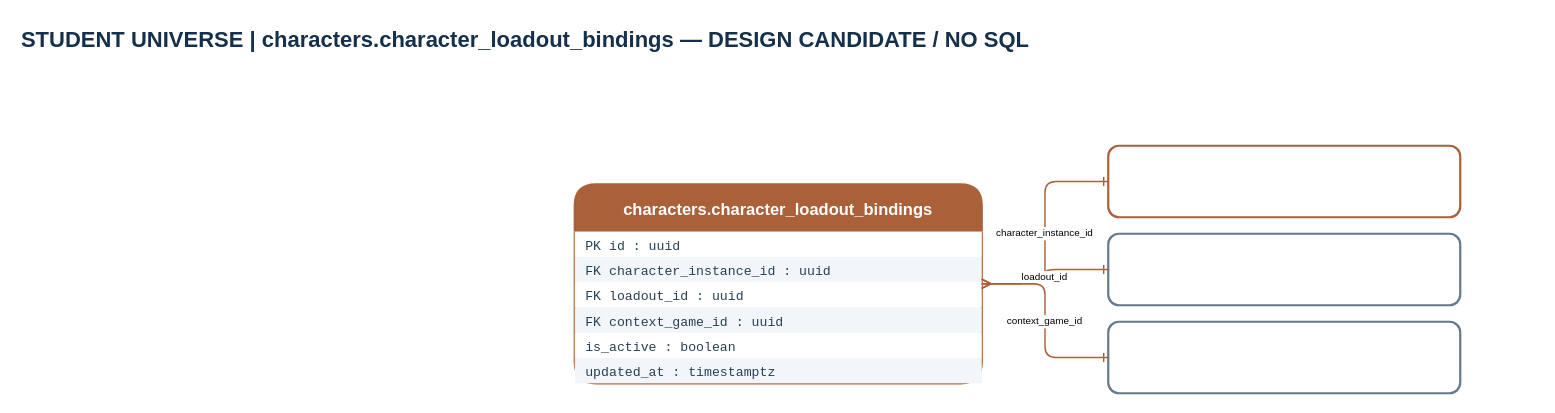
This 1555x413 diagram has some shape labels left out. The shapes that lost their labels are listed below. From the top down, each one's box as (x1, y1, x2, y2) in pixels, then its label:
(1107, 144, 1461, 218): characters.character_instances
(1107, 232, 1461, 306): commerce.avatar_loadouts
(1107, 320, 1461, 394): catalog.games
